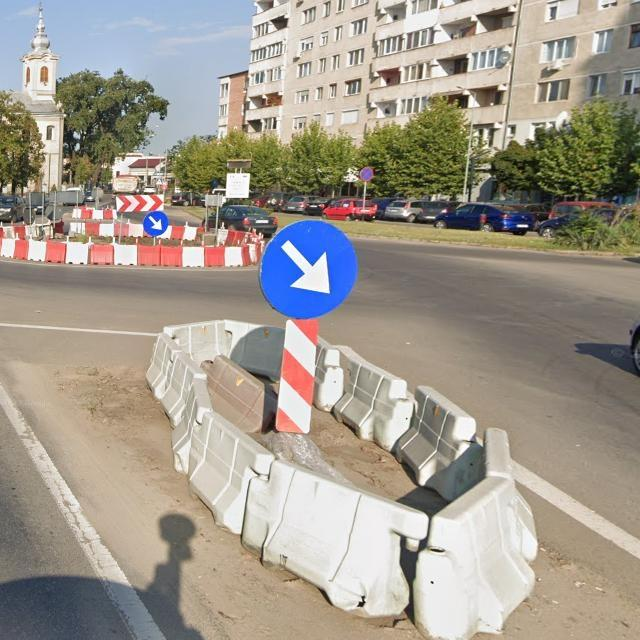forb_waiting: (360, 167, 374, 181)
